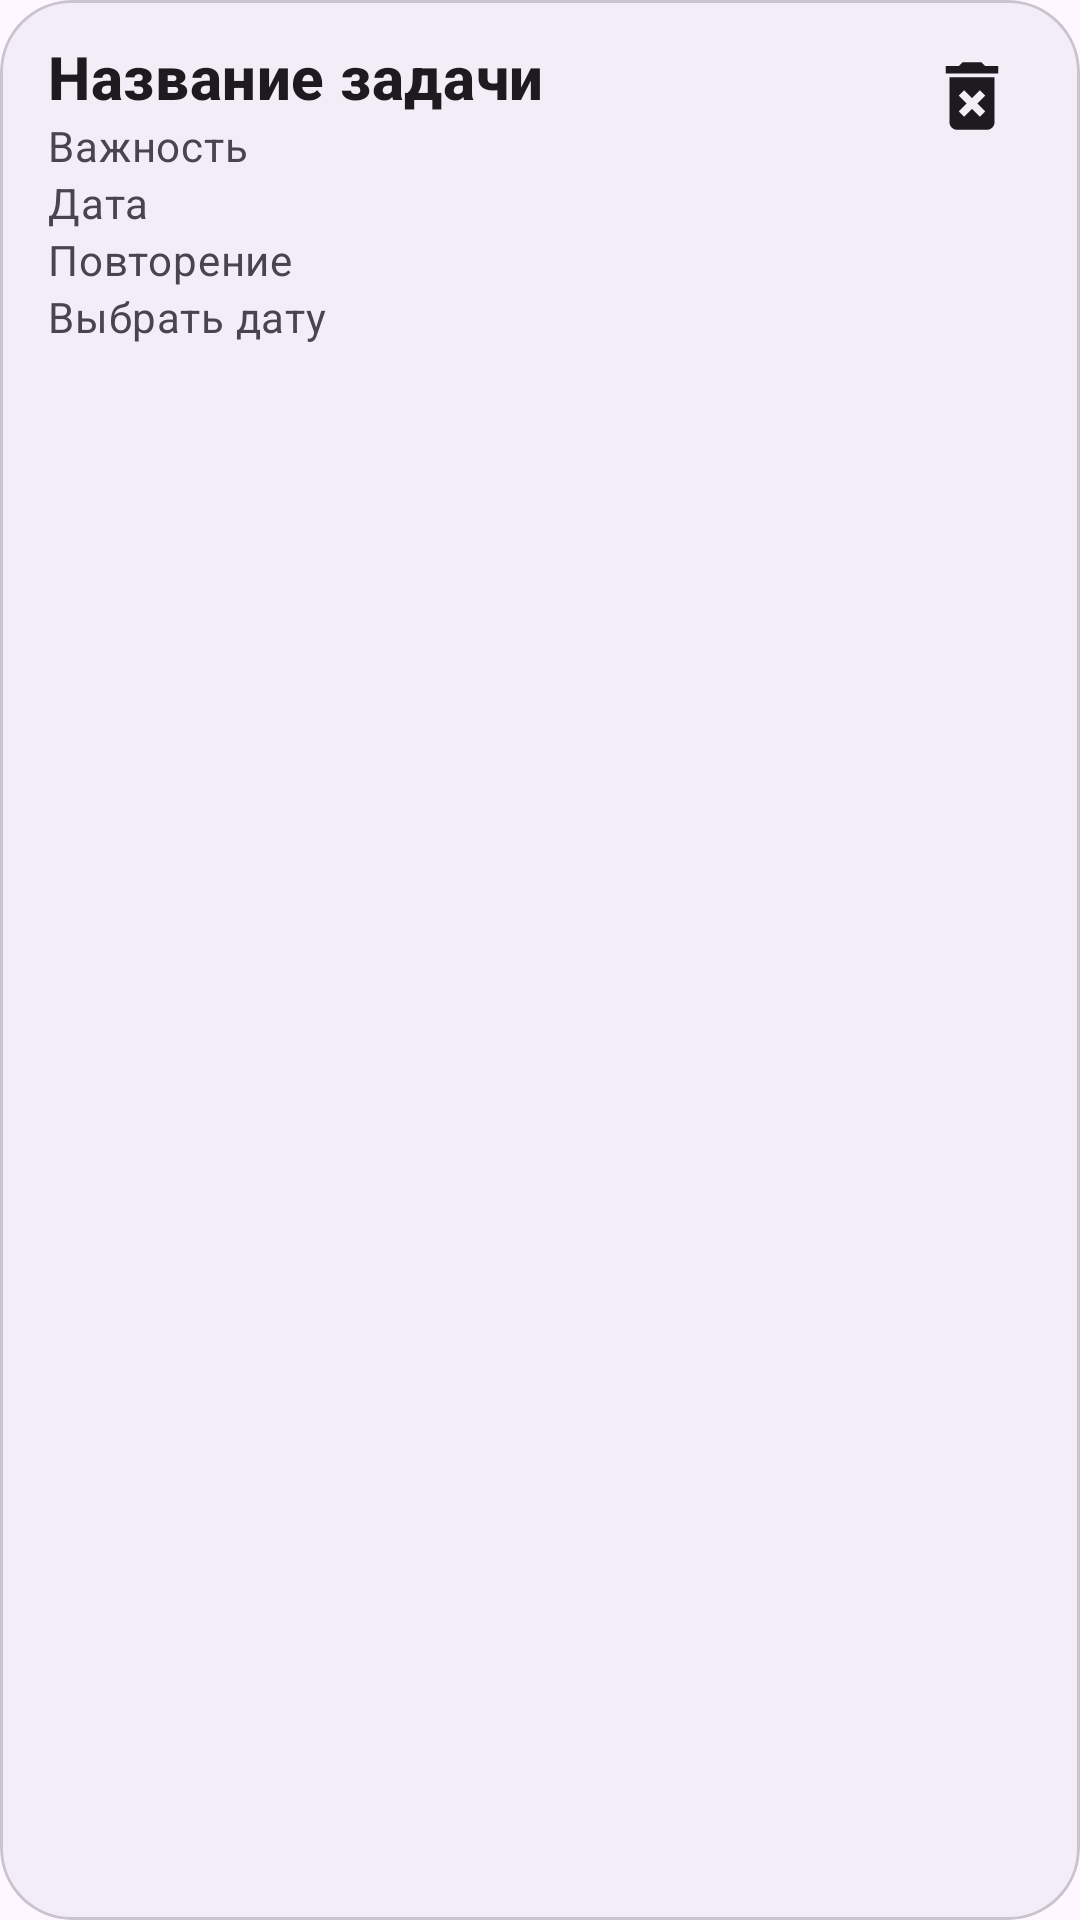

Named icons in this screenshot (1080 × 1920) and their centers, point (x, y):
Удалить: point (972, 96)
